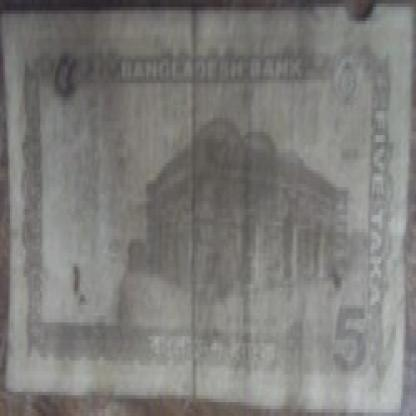Five Taka: (368, 90, 389, 316), (328, 294, 368, 385), (53, 42, 80, 100)
